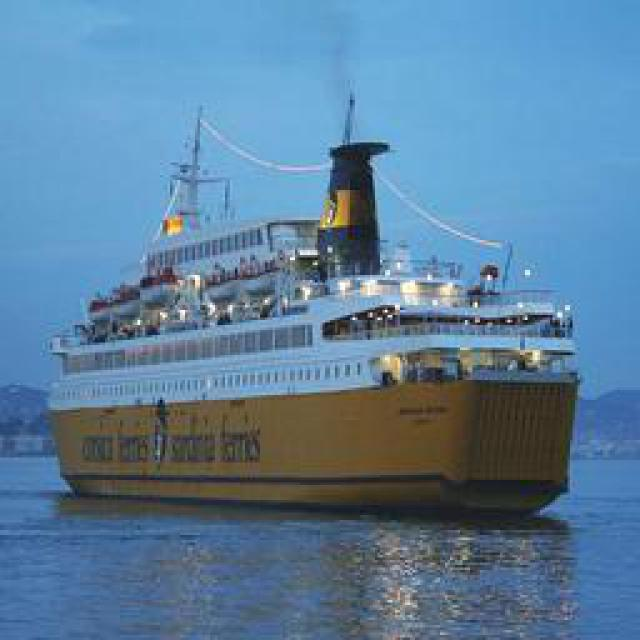Ship: (40, 88, 588, 513)
